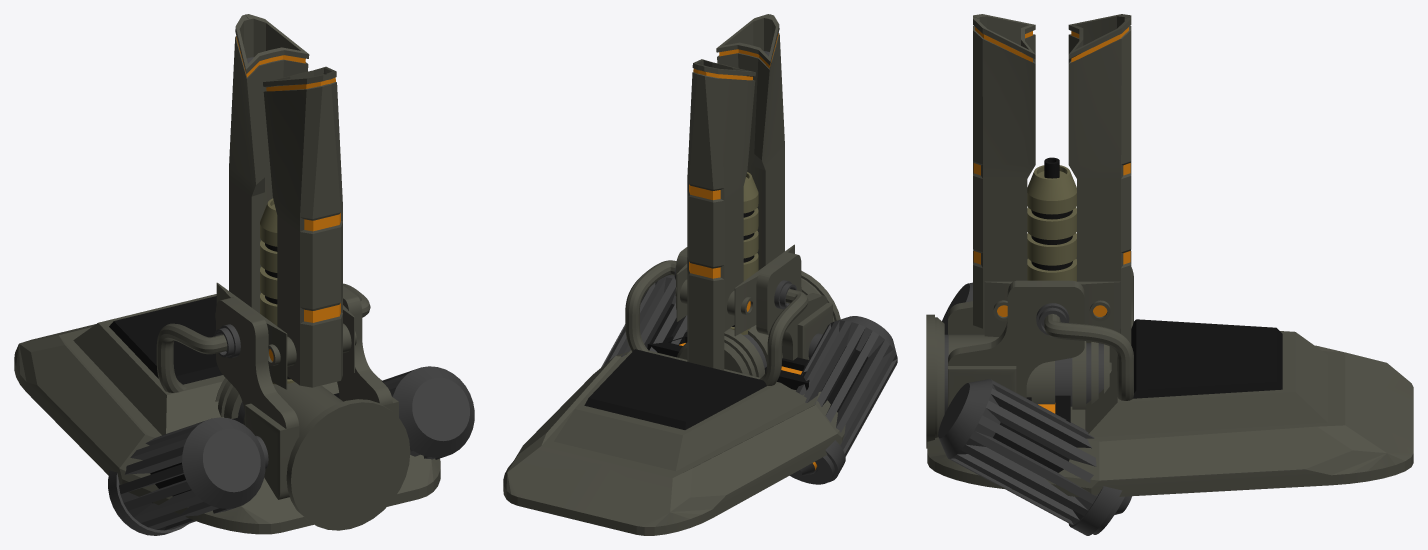
Rendered from turret lazer 1 rotated.fbx.
The picture shows the model from 3 angles, left to right: view 1: azimuth 30°, elevation 25°; view 2: azimuth 150°, elevation 25°; view 3: azimuth 270°, elevation 25°; orthographic projection. The views are drawn at different scales.
Parts seen in each view (by area): view 1: gun, base; view 2: gun, base; view 3: gun, base.
Part boxes in pixels (x1,y1,x2,y2): gun: (108,14,474,535); base: (14,294,440,534); gun: (601,14,897,484); base: (503,332,845,535); gun: (926,14,1133,535); base: (927,319,1413,497).
Bounding box in the file's own units: 1051 × 1631 × 1548.
